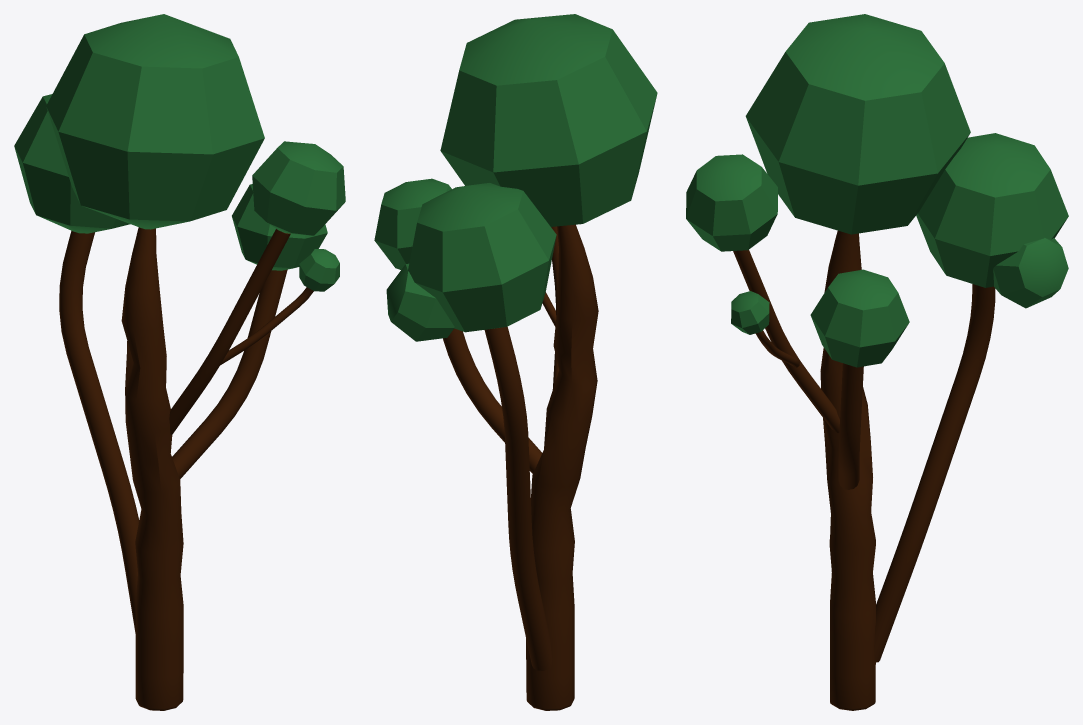
Rendered from a tree.obj.
3 renders of one model, left to right at view 1: azimuth 30°, elevation 25°; view 2: azimuth 150°, elevation 25°; view 3: azimuth 270°, elevation 25°, orthographic.
Visible parts, largest first — view 1: ?????_5, ??????, ??????3, ?????_1, ?????_4, ??????1, ??????2, ?????_2, ?????, ??????4; view 2: ?????_5, ??????, ?????_4, ??????3, ?????_2, ?????_3, ??????1, ??????2; view 3: ?????_5, ?????_4, ??????, ??????3, ?????_1, ?????_2, ?????_3, ??????2, ??????1, ?????.
Part boxes in pixels (x1,y1,x2,y2): ?????_5: [46, 14, 264, 229]; ??????: [121, 227, 183, 710]; ??????3: [59, 231, 139, 633]; ?????_1: [252, 141, 345, 235]; ?????_4: [14, 94, 130, 233]; ??????1: [172, 269, 287, 479]; ??????2: [169, 229, 290, 434]; ?????_2: [232, 184, 327, 270]; ?????: [299, 249, 339, 291]; ??????4: [220, 287, 313, 365]; ?????_5: [440, 14, 657, 226]; ??????: [526, 224, 598, 710]; ?????_4: [408, 183, 556, 332]; ??????3: [484, 326, 552, 670]; ?????_2: [374, 178, 451, 269]; ?????_3: [386, 263, 454, 341]; ??????1: [443, 328, 542, 473]; ??????2: [551, 226, 558, 389]; ?????_5: [745, 14, 970, 234]; ?????_4: [916, 133, 1068, 287]; ??????: [820, 230, 875, 710]; ??????3: [874, 284, 995, 662]; ?????_1: [686, 154, 777, 251]; ?????_2: [810, 269, 909, 367]; ?????_3: [993, 237, 1068, 308]; ??????2: [733, 250, 839, 432]; ??????1: [838, 363, 863, 489]; ?????: [731, 291, 769, 334].
Bounding box in the file's own units: 270 × 662 × 339.
